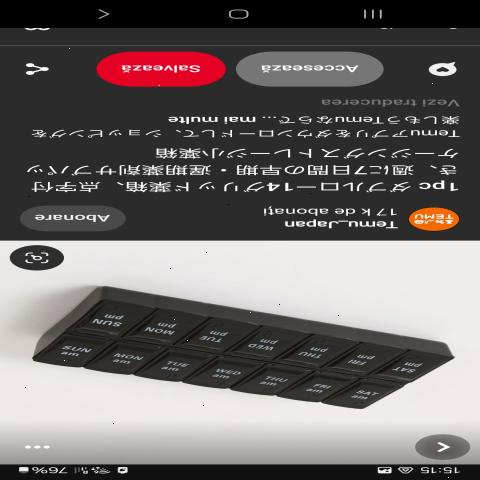PillBox: (22, 273, 456, 421)
